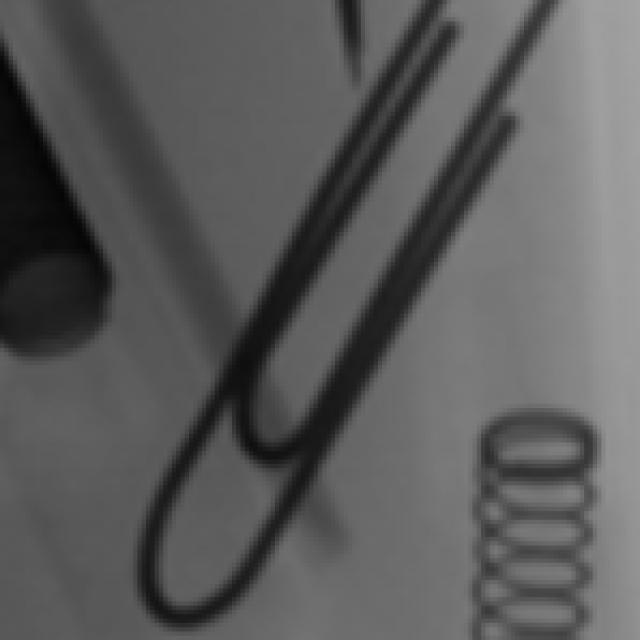GUN: (1, 40, 84, 258)
